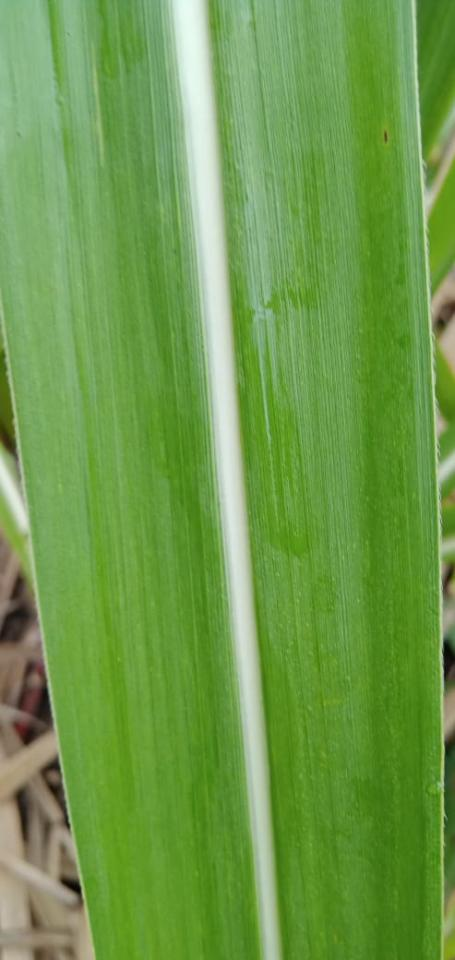Healthy: (0, 0, 442, 959), (414, 0, 454, 165), (429, 157, 454, 301)
